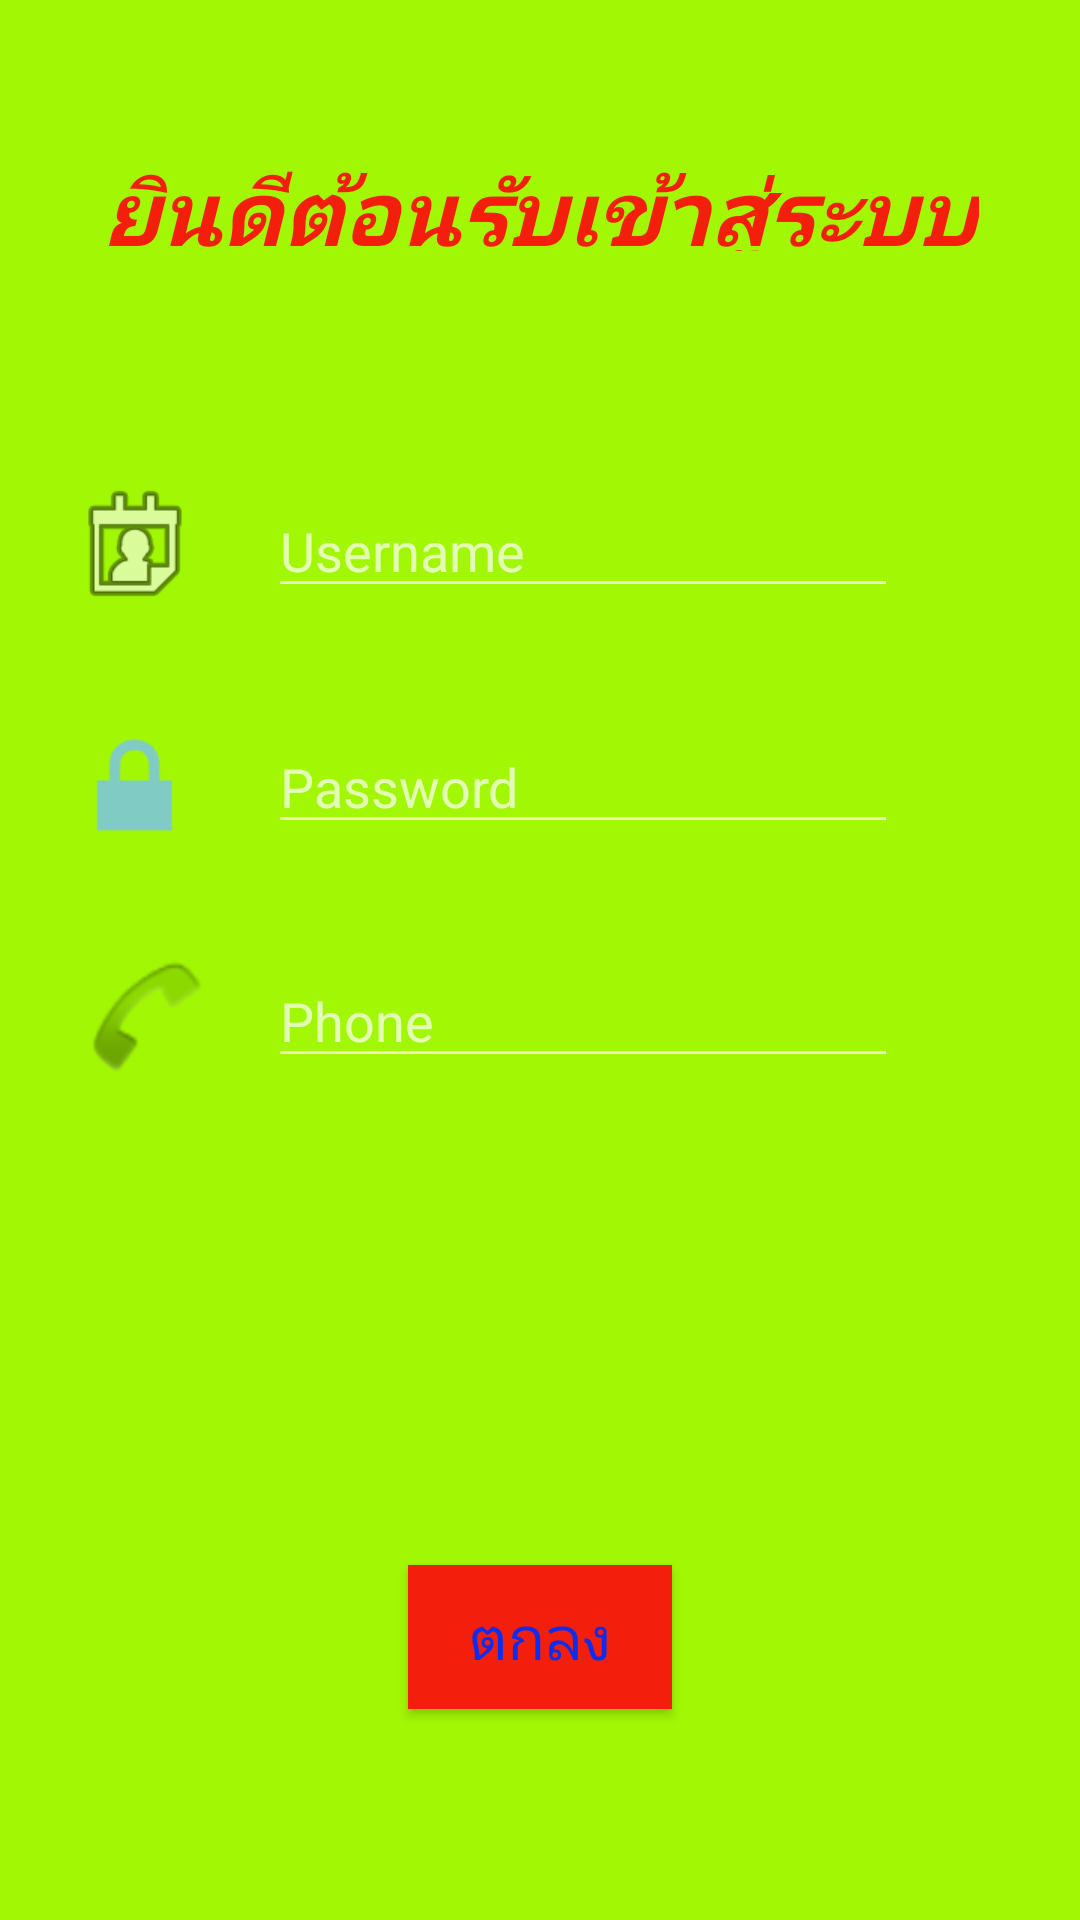

Screen size 1080×1920. Icon name, then its center in pixels as [x,y]:
calendar: [135,543]
lock: [134,785]
sym action call: [146,1016]
